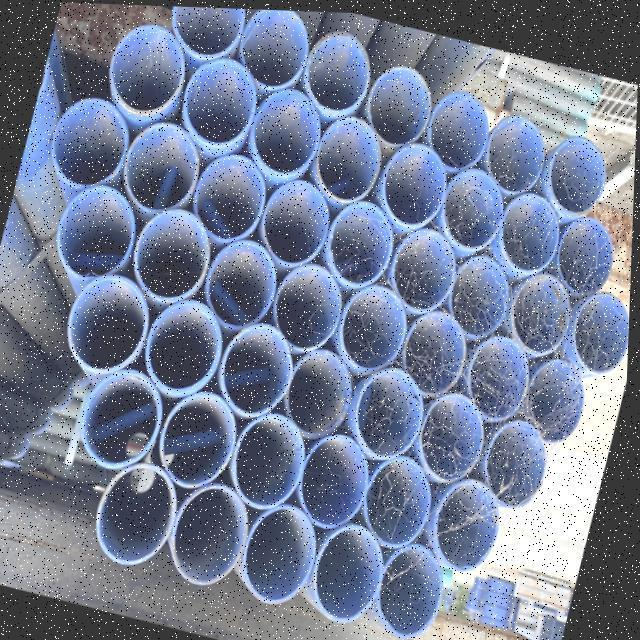pipe: (70, 354, 179, 482), (88, 450, 190, 575), (164, 468, 264, 595), (58, 262, 161, 382), (235, 489, 332, 614), (49, 170, 150, 290), (136, 285, 236, 402), (153, 376, 250, 496), (124, 194, 224, 310), (98, 8, 198, 124), (42, 83, 140, 197), (308, 510, 399, 630), (115, 108, 212, 220), (173, 44, 270, 155), (213, 310, 307, 424), (226, 399, 318, 514), (197, 226, 292, 336), (426, 465, 517, 578), (356, 442, 447, 555), (293, 418, 383, 532), (184, 142, 278, 250), (242, 76, 333, 185), (254, 165, 344, 272), (266, 250, 354, 359), (374, 533, 463, 640), (475, 402, 563, 510), (332, 270, 421, 376), (306, 104, 394, 211), (413, 377, 500, 485), (348, 354, 434, 462), (279, 337, 366, 443), (296, 14, 382, 120), (319, 188, 406, 292), (372, 130, 458, 232), (382, 214, 468, 316), (396, 297, 482, 399), (459, 321, 544, 423), (519, 344, 601, 446), (356, 56, 442, 152), (434, 152, 514, 255), (491, 178, 571, 280), (538, 122, 622, 218), (230, 6, 321, 94), (442, 242, 522, 340), (502, 260, 581, 358), (420, 78, 501, 173), (549, 203, 628, 300), (560, 274, 632, 379), (479, 102, 558, 195), (160, 5, 251, 66)
